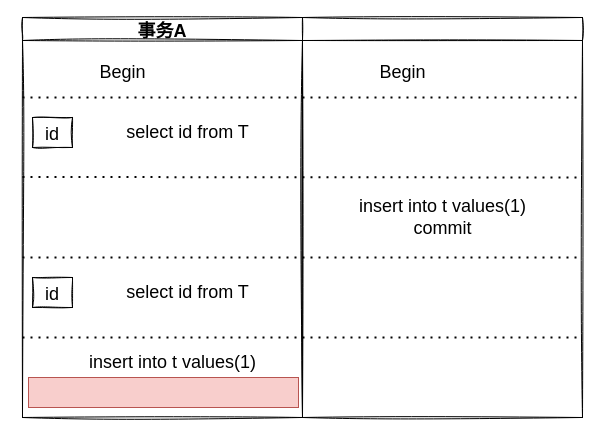
This 601x435 diagram has some shape labels left out. The box of each missing label's shape, as (x1, y1, x2, y2) in pixels:
Duplicate entry '1' for key 'PRIMARY': (28, 376, 298, 408)
事务B: (302, 16, 582, 418)
